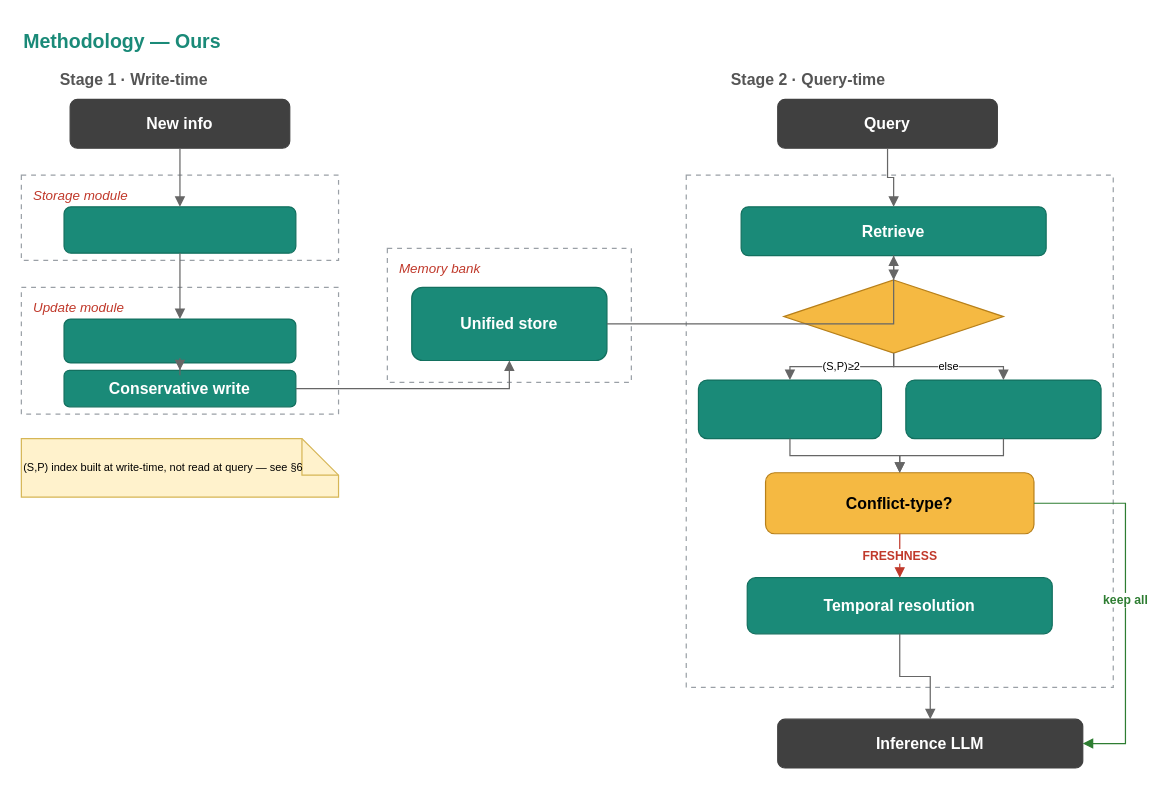
Image size: 1169x789. Some labels were removed from this diagram. Here are the shapes that lost their labels. From the top down, the box of each, then its label:
(63, 206, 296, 253): Extract entries
(783, 279, 1003, 353): Routing
(63, 318, 296, 363): Triple extract
(697, 379, 881, 439): Structural group
(905, 379, 1101, 439): LLM grouping
(685, 174, 1113, 687): Retrieval module
